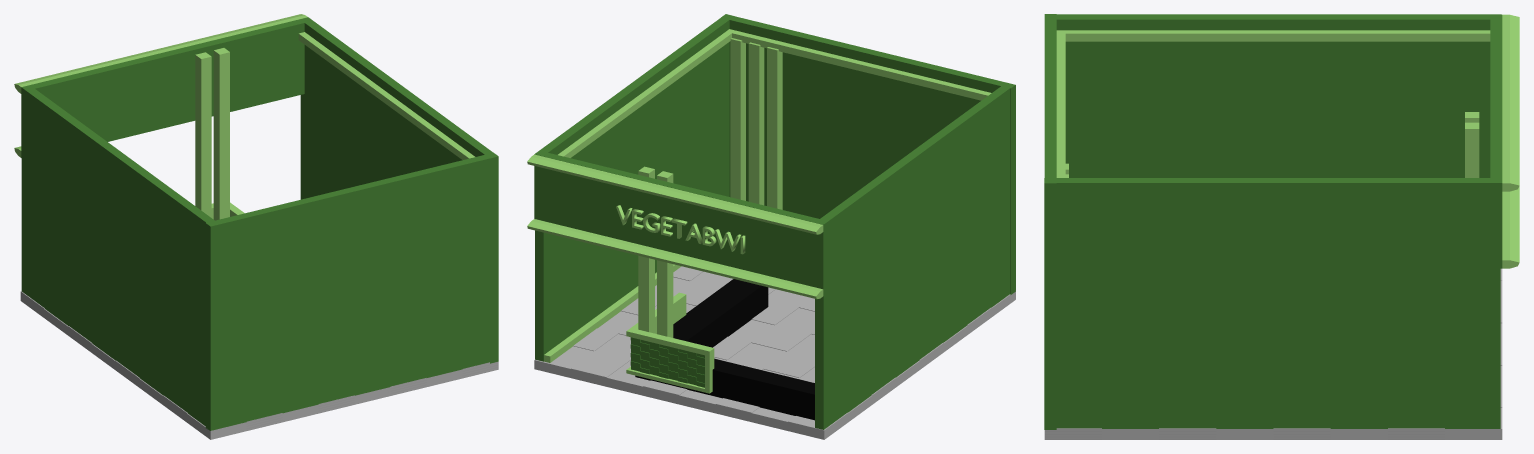
The model's file is Vegetable Stall.glb.
3 views of the same model, side by side, from view 1: azimuth 30°, elevation 25°; view 2: azimuth 150°, elevation 25°; view 3: azimuth 270°, elevation 25° (orthographic). The views are drawn at different scales.
Parts seen in each view (by area): view 1: Cube.214; view 2: Cube.214, Text.003; view 3: Cube.214.
Part boxes in pixels (left/top/right/bottom): Cube.214: left=14, top=14, right=498, bottom=439; Cube.214: left=527, top=14, right=1015, bottom=439; Text.003: left=616, top=205, right=745, bottom=254; Cube.214: left=1044, top=14, right=1519, bottom=439.
Bounding box in the file's own units: 52.57 × 37.22 × 62.41.
